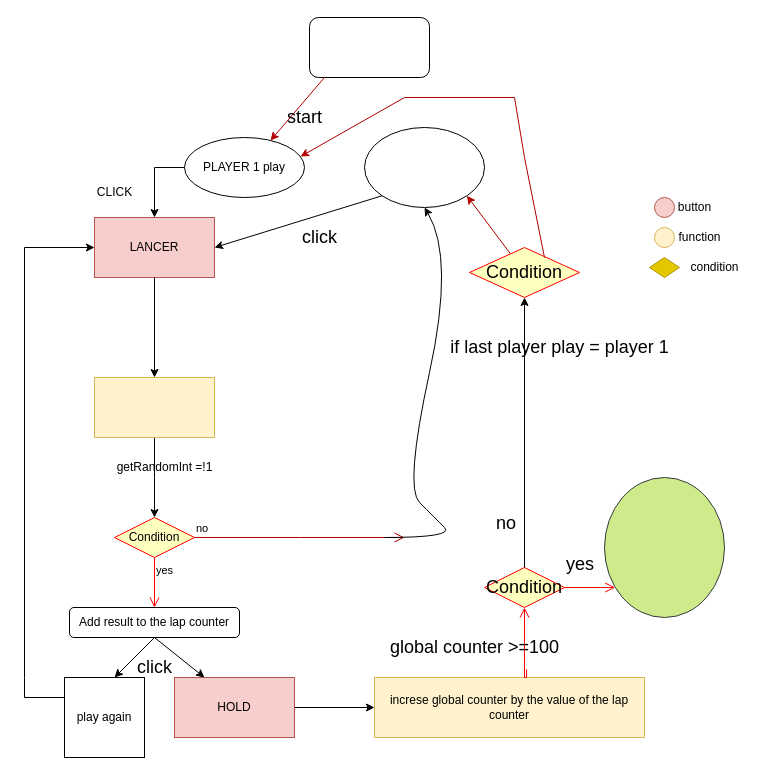
The diagram is 767 pixels wide and 775 high, and some of its shapes have lost their labels. Each missing label, with the centre of its shape:
end of game player reach global counter =100 win: the point at 664,547
getRandomInt(): the point at 154,407
New game prompt players names: the point at 369,47
PLAYER 2 play: the point at 424,167
